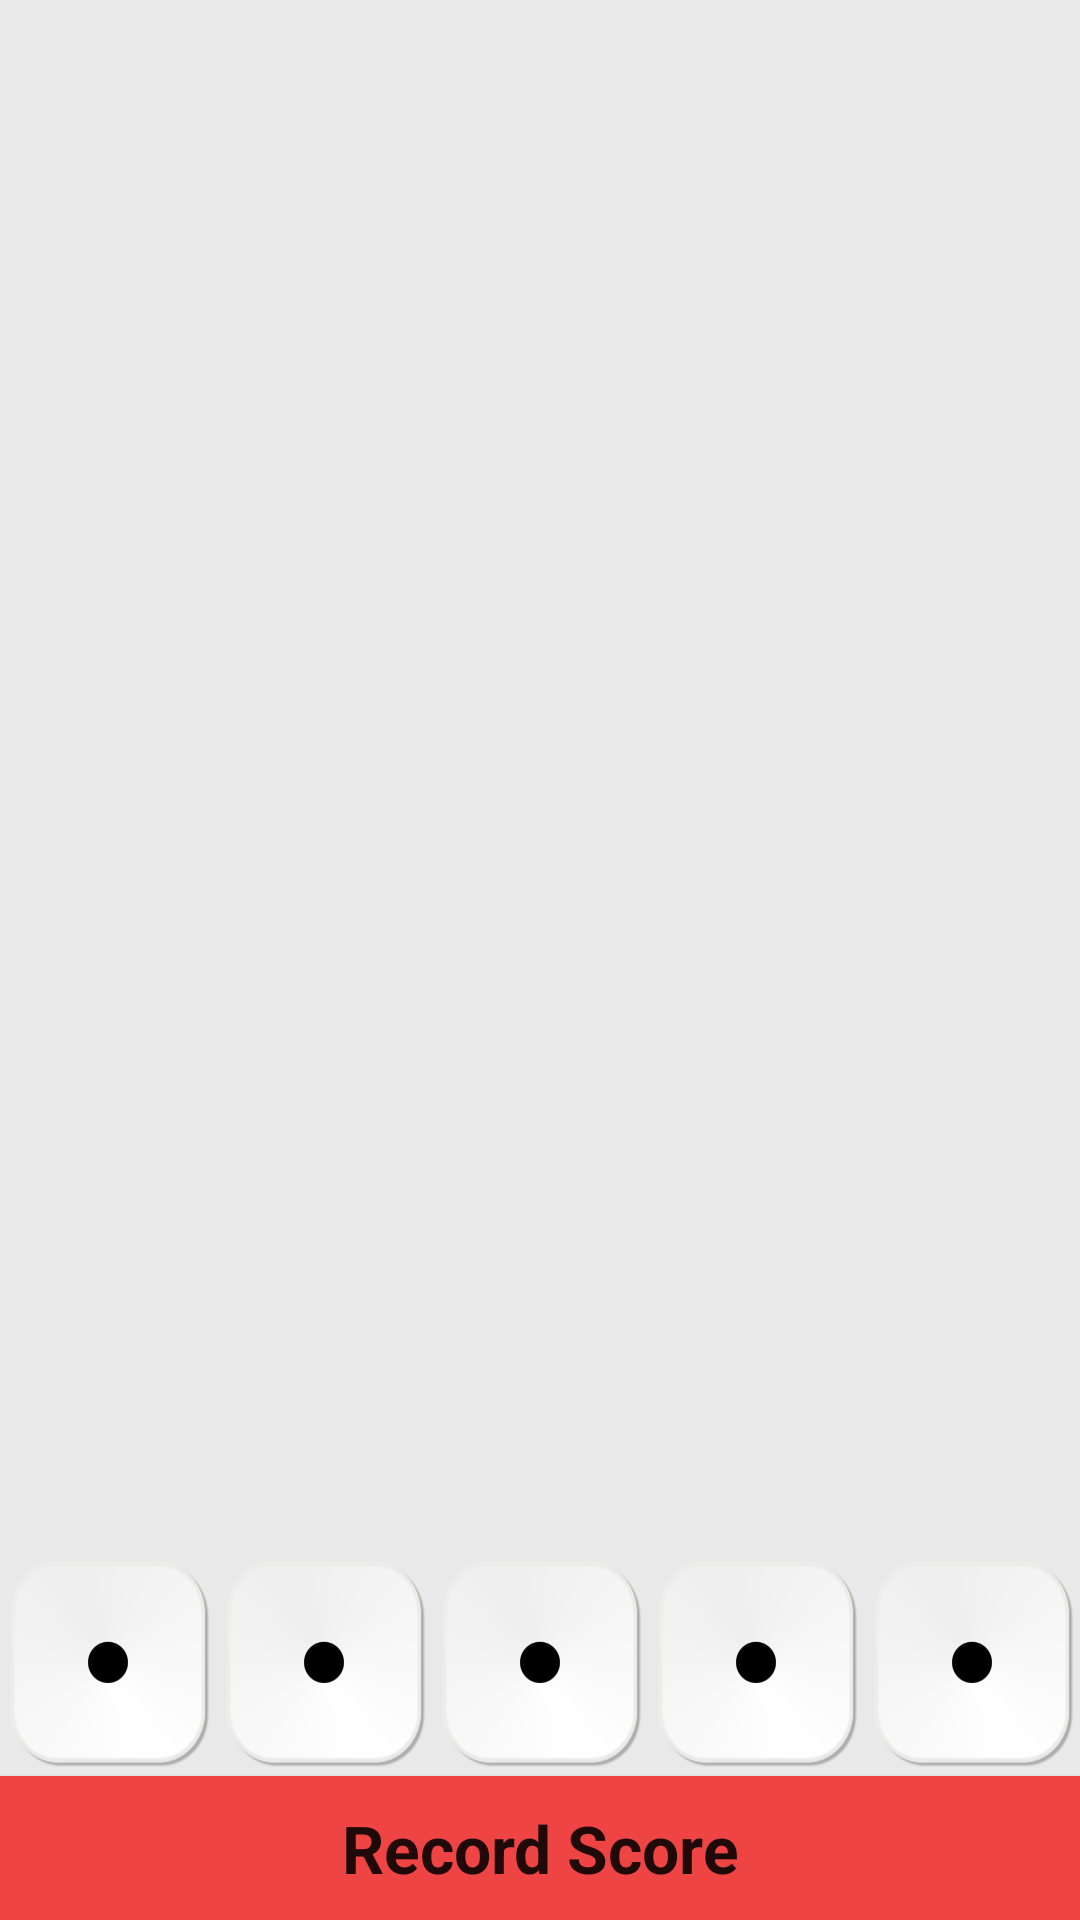

Screen size 1080×1920. Icon name, then its box in pixels as (x1, y1, x2, y2):
die one: (14, 1566, 209, 1767), (230, 1566, 425, 1767), (446, 1566, 641, 1767), (662, 1566, 857, 1767), (878, 1566, 1073, 1767)
